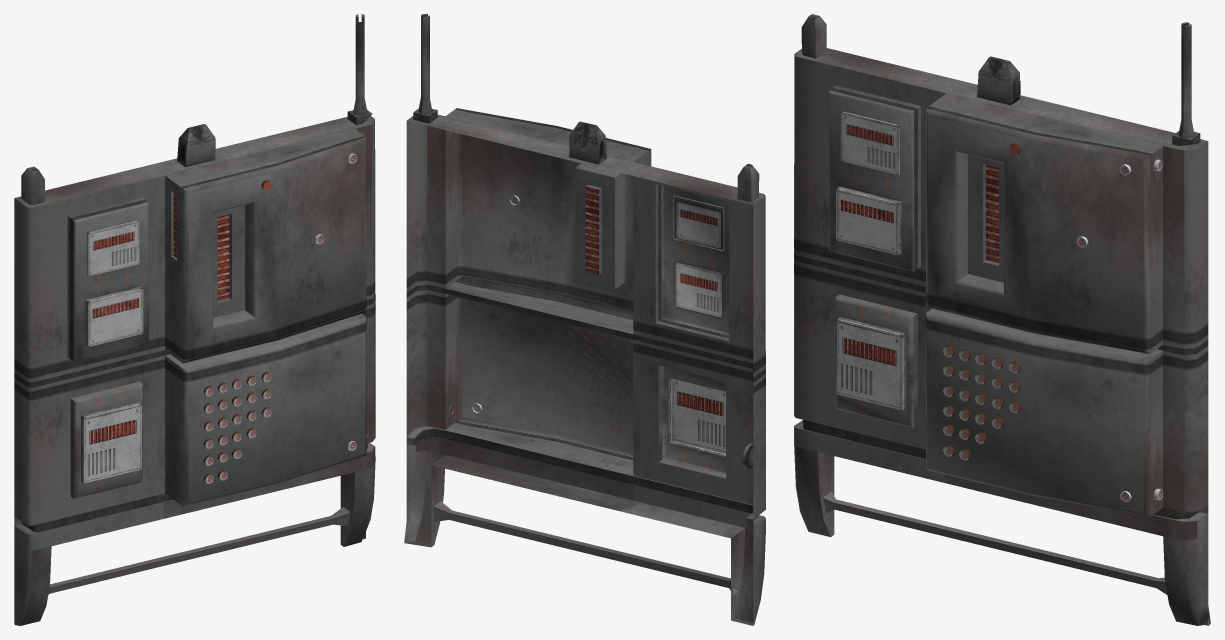
File: Electrical Wall Box 4.fbx
The picture shows the model from 3 angles, left to right: view 1: azimuth 30°, elevation 25°; view 2: azimuth 150°, elevation 25°; view 3: azimuth 330°, elevation 25°; orthographic projection. The views are drawn at different scales.
Visible parts, largest first — view 1: Cube; view 2: Cube; view 3: Cube.
Part boxes in pixels (left/top/right/bottom): Cube: left=14, top=14, right=375, bottom=625; Cube: left=404, top=14, right=765, bottom=625; Cube: left=794, top=14, right=1210, bottom=625.
Size of the model in its own units: 152 by 219 by 29.
